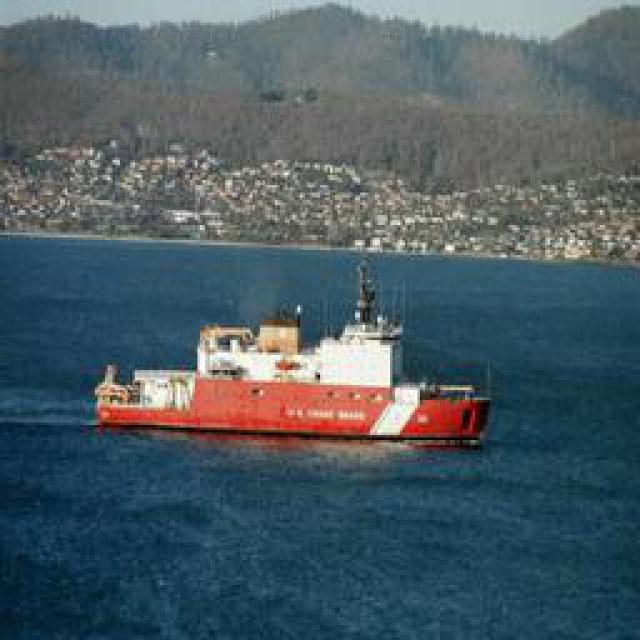Ship: (102, 300, 500, 445)
